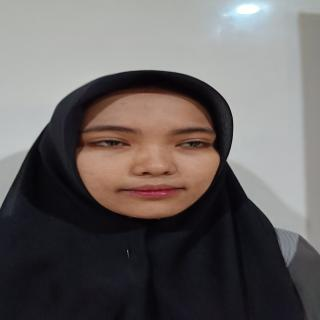Netral: (68, 84, 226, 220)
